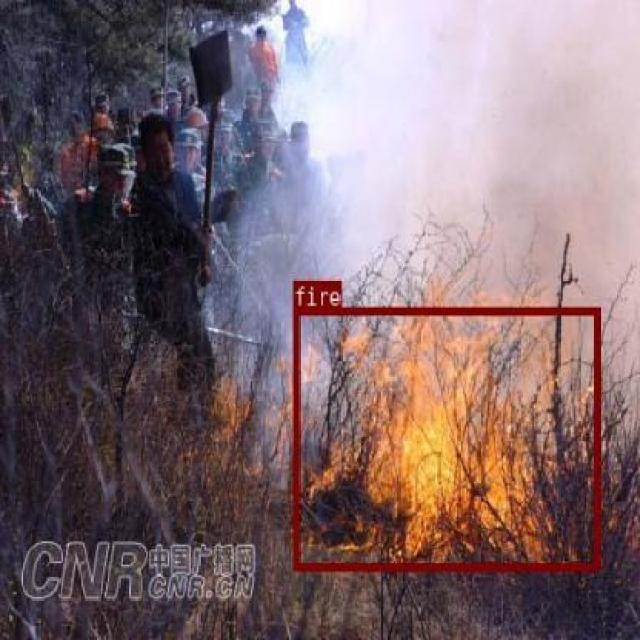Fire: (306, 263, 444, 438)
